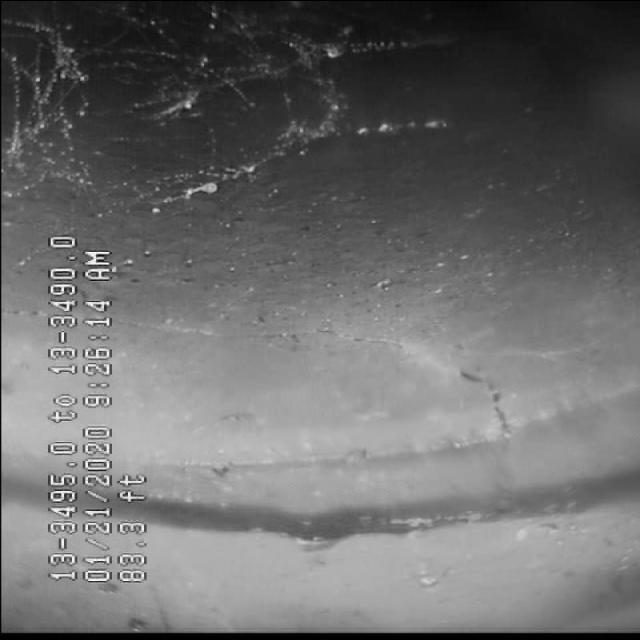Crack: (223, 294, 507, 418)
